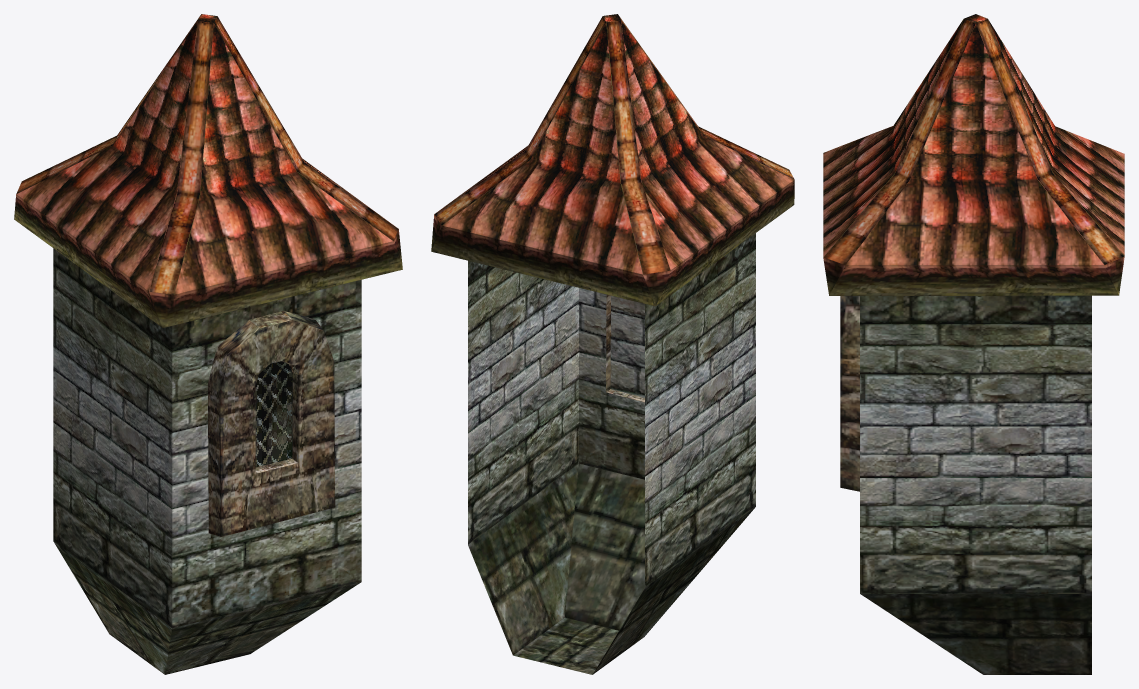
3 views of the same model, side by side, from view 1: azimuth 30°, elevation 25°; view 2: azimuth 150°, elevation 25°; view 3: azimuth 270°, elevation 25° (orthographic). The views are drawn at different scales.
Parts seen in each view (by area): view 1: cc81-col; view 2: cc81-col; view 3: cc81-col.
Boxes of the visible parts, box(x1,y1,x2,y2) form: cc81-col: box(14, 14, 402, 674); cc81-col: box(431, 14, 794, 674); cc81-col: box(823, 14, 1124, 674).
Size of the model in its own units: 2.47 by 6.09 by 2.63.
Materials: 7 (7 with a texture image).
